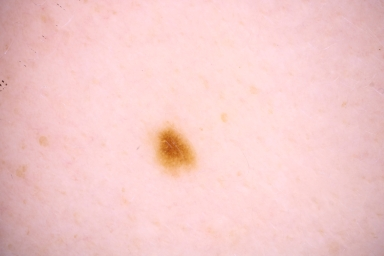seborrheic keratosis: (150, 126, 198, 176)
